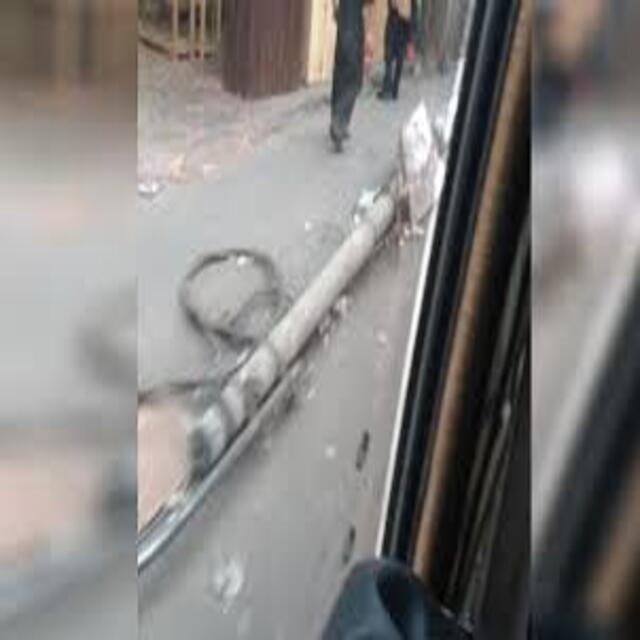Inclined Pole: (177, 171, 408, 479)
